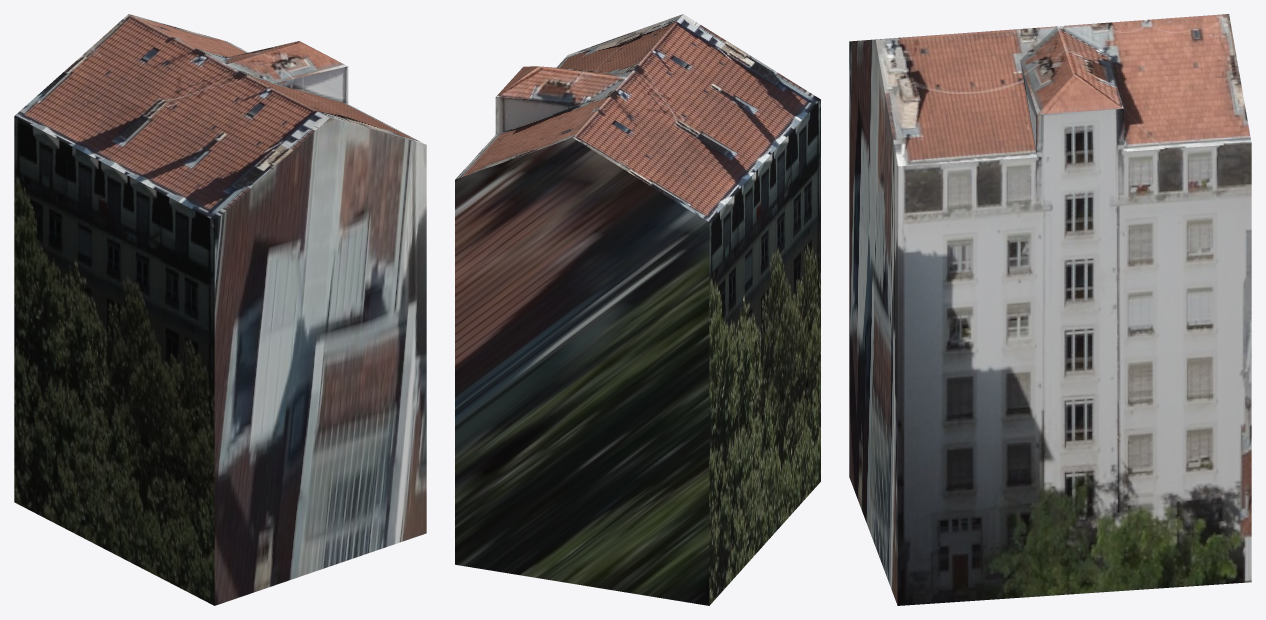
3 renders of one model, left to right at view 1: azimuth 30°, elevation 25°; view 2: azimuth 150°, elevation 25°; view 3: azimuth 270°, elevation 25°, orthographic. The views are drawn at different scales.
Visible parts, largest first — view 1: Z_UP; view 2: Z_UP; view 3: Z_UP.
Boxes of the visible parts, left/top/right/bottom form: Z_UP: left=14, top=14, right=426, bottom=605; Z_UP: left=455, top=14, right=820, bottom=605; Z_UP: left=849, top=14, right=1251, bottom=605.
Bounding box in the file's own units: 17.65 × 27.3 × 19.59.
2 materials, 1 textured.
